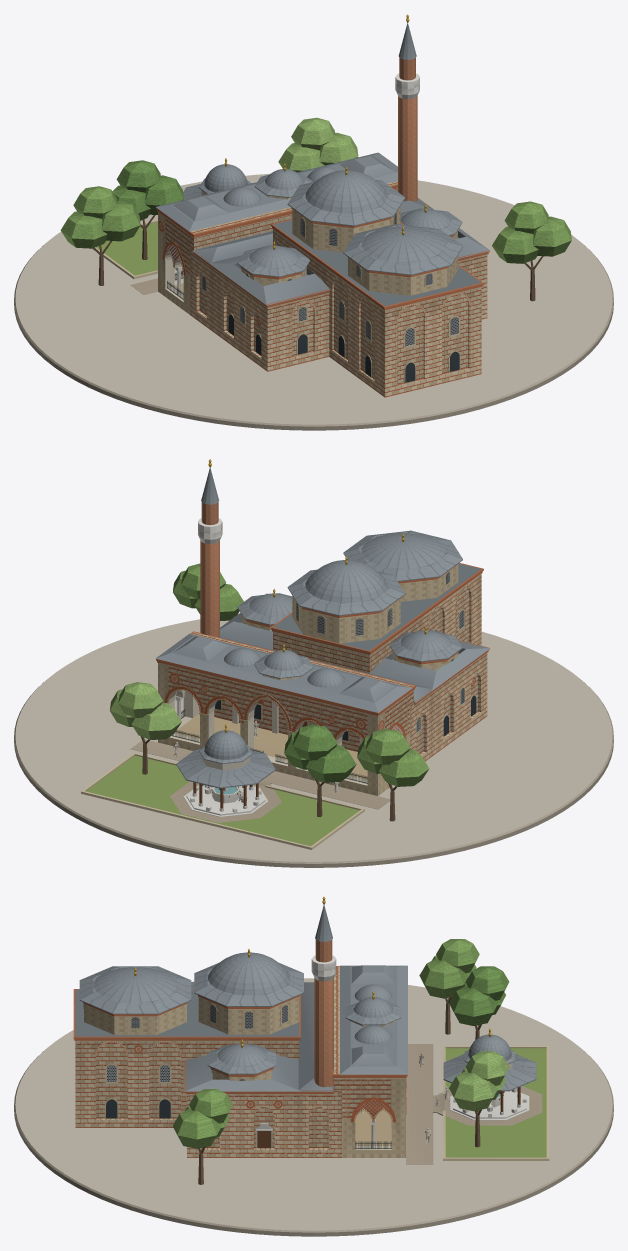
Rendered from orhan-bey-camii_v06_sunum.glb.
3 views of the same model, one above another, from view 1: azimuth 30°, elevation 25°; view 2: azimuth 150°, elevation 25°; view 3: azimuth 270°, elevation 25° (orthographic).
Parts seen in each view (by area): view 1: Zemin_Kaide, Cami_Govde, Cami_Mihrap, Kubbe_Mihrap, Kubbe_Ana, Kubbe_SonCemaat, Cevre_Agac_01, Cevre_Agac_04, Minare_1, Cevre_Agac_02, Cevre_Agac_03, Cevre_Doseme (+5 smaller); view 2: Zemin_Kaide, Cami_Govde, Cevre_Doseme, Cami_SonCemaat, Kubbe_SonCemaat, Kubbe_Ana, Sadirvan, Kubbe_Mihrap, Cami_Mihrap, Minare_1, Cevre_Agac_03, Cevre_Agac_04 (+6 smaller); view 3: Zemin_Kaide, Cami_Govde, Cevre_Doseme, Cami_Mihrap, Kubbe_SonCemaat, Kubbe_Ana, Kubbe_Mihrap, Sadirvan, Cami_SonCemaat, Minare_1, Cevre_Agac_02, Cevre_Agac_03 (+5 smaller).
Part boxes in pixels (bbox=[...]): Zemin_Kaide: bbox=[14, 173, 613, 430]; Cami_Govde: bbox=[156, 163, 490, 383]; Cami_Mihrap: bbox=[323, 255, 481, 397]; Kubbe_Mihrap: bbox=[343, 224, 462, 295]; Kubbe_Ana: bbox=[287, 170, 405, 252]; Kubbe_SonCemaat: bbox=[156, 152, 397, 231]; Cevre_Agac_01: bbox=[492, 201, 571, 263]; Cevre_Agac_04: bbox=[60, 186, 140, 248]; Minare_1: bbox=[395, 14, 419, 201]; Cevre_Agac_02: bbox=[278, 117, 358, 172]; Cevre_Agac_03: bbox=[112, 160, 183, 220]; Cevre_Doseme: bbox=[92, 219, 183, 294]; Zemin_Kaide: bbox=[14, 613, 613, 867]; Cami_Govde: bbox=[156, 533, 490, 779]; Cevre_Doseme: bbox=[81, 739, 390, 849]; Cami_SonCemaat: bbox=[158, 663, 409, 795]; Kubbe_SonCemaat: bbox=[156, 633, 412, 712]; Kubbe_Ana: bbox=[287, 560, 405, 643]; Sadirvan: bbox=[176, 724, 275, 816]; Kubbe_Mihrap: bbox=[343, 530, 462, 601]; Cami_Mihrap: bbox=[400, 563, 481, 645]; Minare_1: bbox=[198, 459, 222, 637]; Cevre_Agac_03: bbox=[284, 724, 356, 782]; Cevre_Agac_04: bbox=[357, 729, 429, 786]; Zemin_Kaide: bbox=[14, 978, 613, 1236]; Cami_Govde: bbox=[73, 949, 407, 1157]; Cevre_Doseme: bbox=[406, 1044, 549, 1164]; Cami_Mihrap: bbox=[75, 989, 198, 1127]; Kubbe_SonCemaat: bbox=[340, 965, 407, 1074]; Kubbe_Ana: bbox=[194, 952, 303, 1034]; Kubbe_Mihrap: bbox=[79, 966, 191, 1034]; Sadirvan: bbox=[443, 1028, 536, 1120]; Cami_SonCemaat: bbox=[342, 1078, 405, 1157]; Minare_1: bbox=[311, 896, 336, 1087]; Cevre_Agac_02: bbox=[449, 1051, 509, 1111]; Cevre_Agac_03: bbox=[449, 966, 509, 1025].
Bounding box in the file's own units: 60.76 × 29.25 × 60.76.
Materials: 20 (17 with a texture image).
